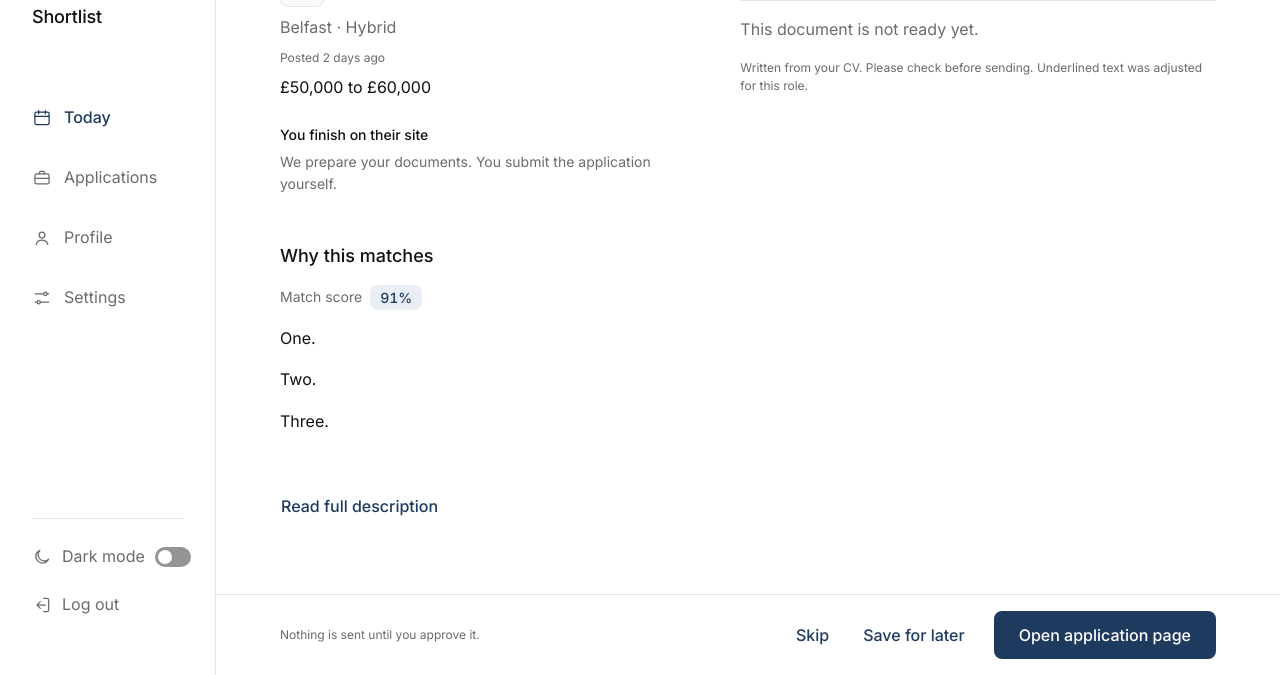
full job description › adds the listed requirements when the advert has no such section
(page scrolled)
Click the button "Read full description".
click(360, 506)  # box [268, 482, 451, 530]
(page scrolled)
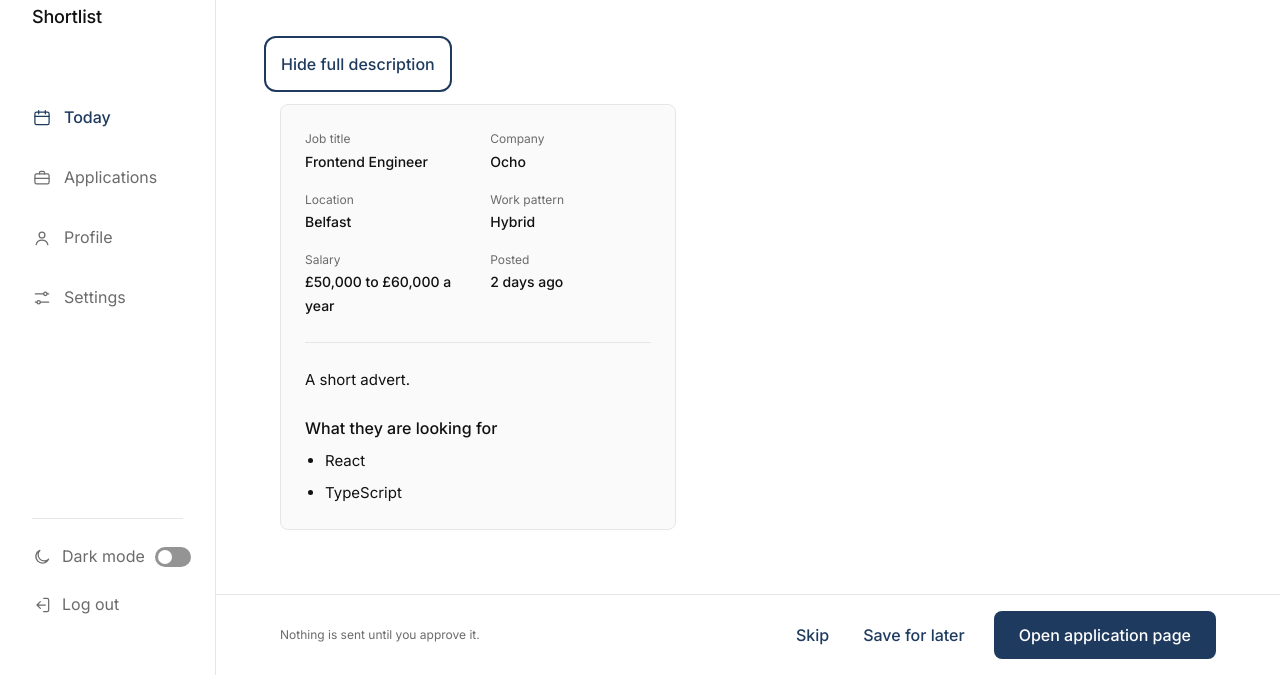
Expected: the heading "What they are looking for" is shown, [305, 418, 497, 438]
